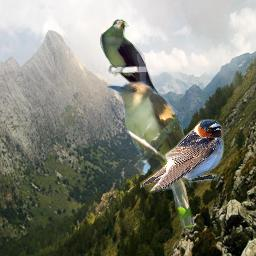Cuckoo: (103, 80, 197, 235), (100, 19, 181, 123)
Swallow: (140, 119, 224, 194)
